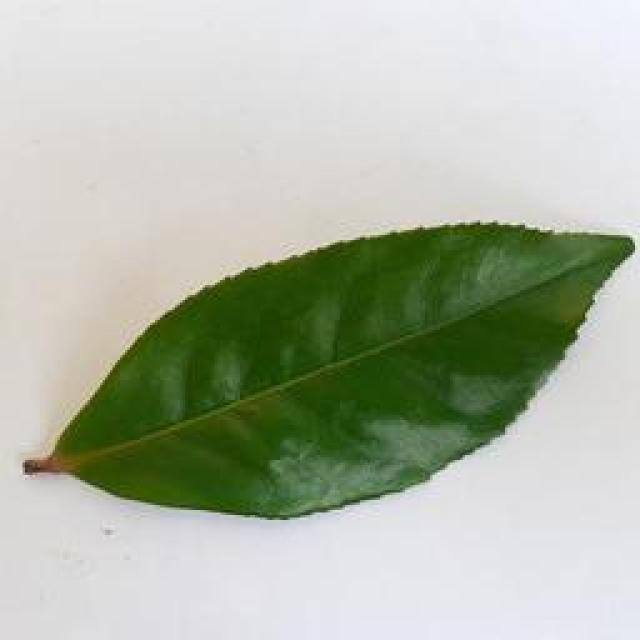Healthy: (18, 226, 639, 520)
